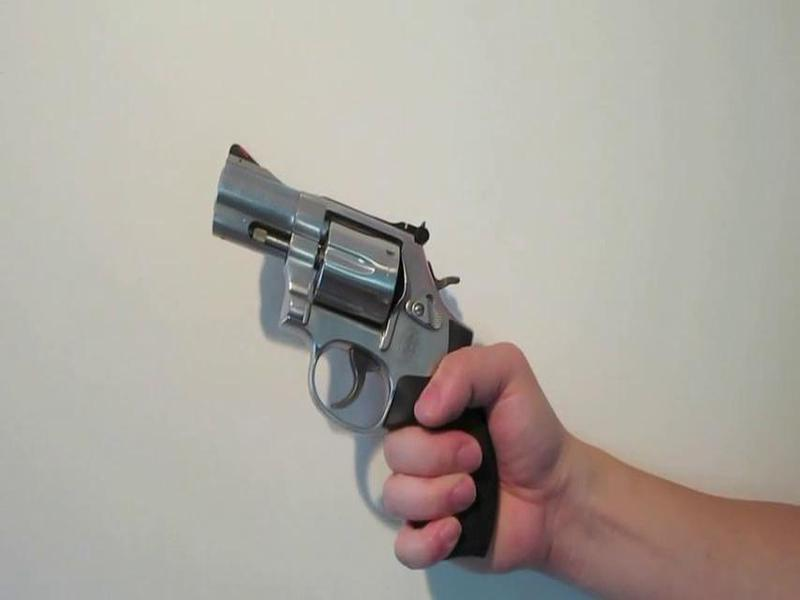Revolver: (208, 114, 517, 581)
